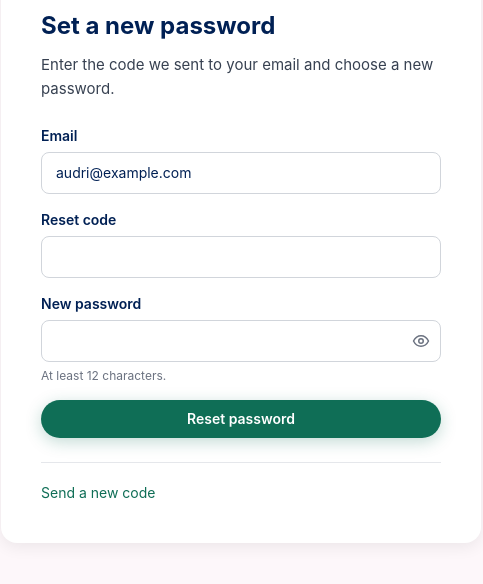
it: ResetForgottenPasswordForm › surfaces invalid_code as a FIELD-level error on the code input
In the field labelled "Reset code": (241, 257) [41, 236, 441, 278], type "BADCODE"
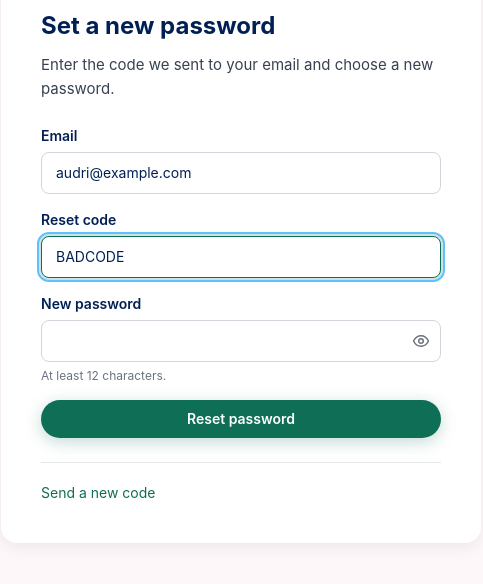
In the password field labelled "New password": (241, 341) [41, 320, 441, 362], type "Strong!Pass99"
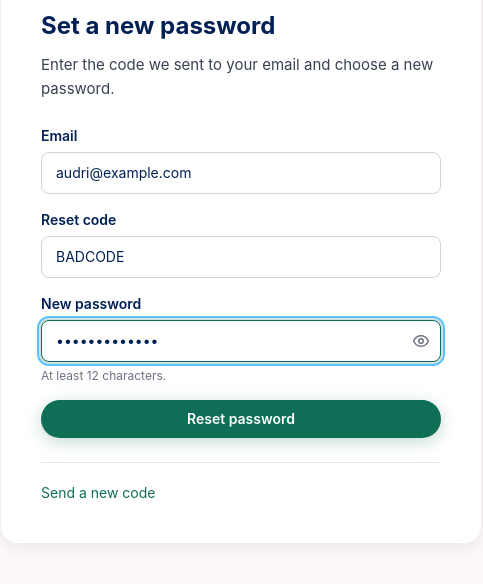
Click the button "Reset password": click(241, 419) [41, 400, 441, 438]
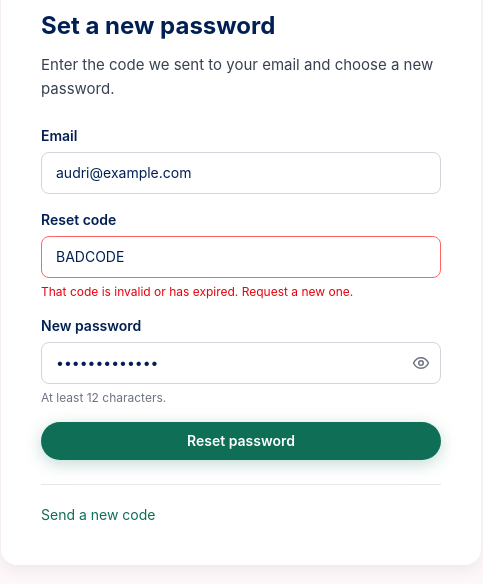
Check: the text "That code is invalid or has expired. Request a new one." is shown, box [41, 284, 353, 299]
